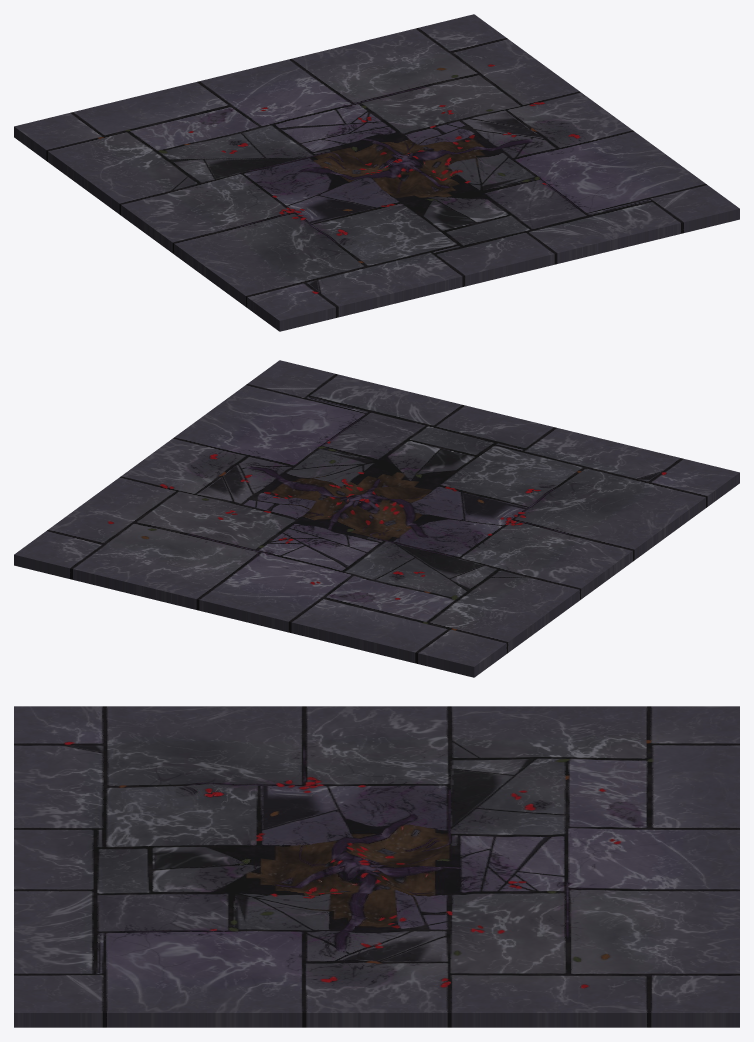
Rendered from thorn_floor_b.glb.
3 renders of one model, top to bottom at view 1: azimuth 30°, elevation 25°; view 2: azimuth 150°, elevation 25°; view 3: azimuth 270°, elevation 25°, orthographic. The views are drawn at different scales.
Visible parts, largest first — view 1: thorn_floor_b; view 2: thorn_floor_b; view 3: thorn_floor_b.
Boxes of the visible parts, x1=… form: thorn_floor_b: x1=14, y1=14, x2=739, y2=331; thorn_floor_b: x1=14, y1=360, x2=739, y2=677; thorn_floor_b: x1=14, y1=706, x2=739, y2=1027.
Bounding box in the file's own units: 4 × 0.14 × 4.
1 material, 1 textured.
